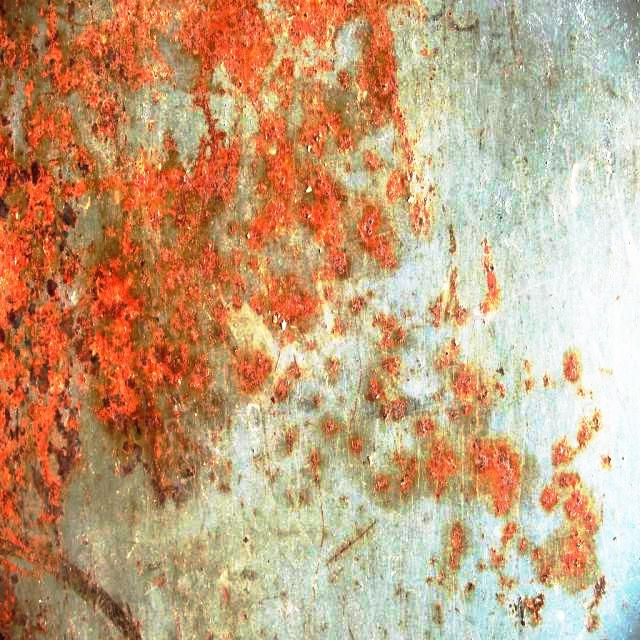Corrosion: (0, 0, 432, 640), (365, 286, 606, 631), (480, 240, 500, 314), (308, 450, 322, 487), (319, 416, 340, 440), (282, 426, 298, 455), (347, 434, 363, 456)
